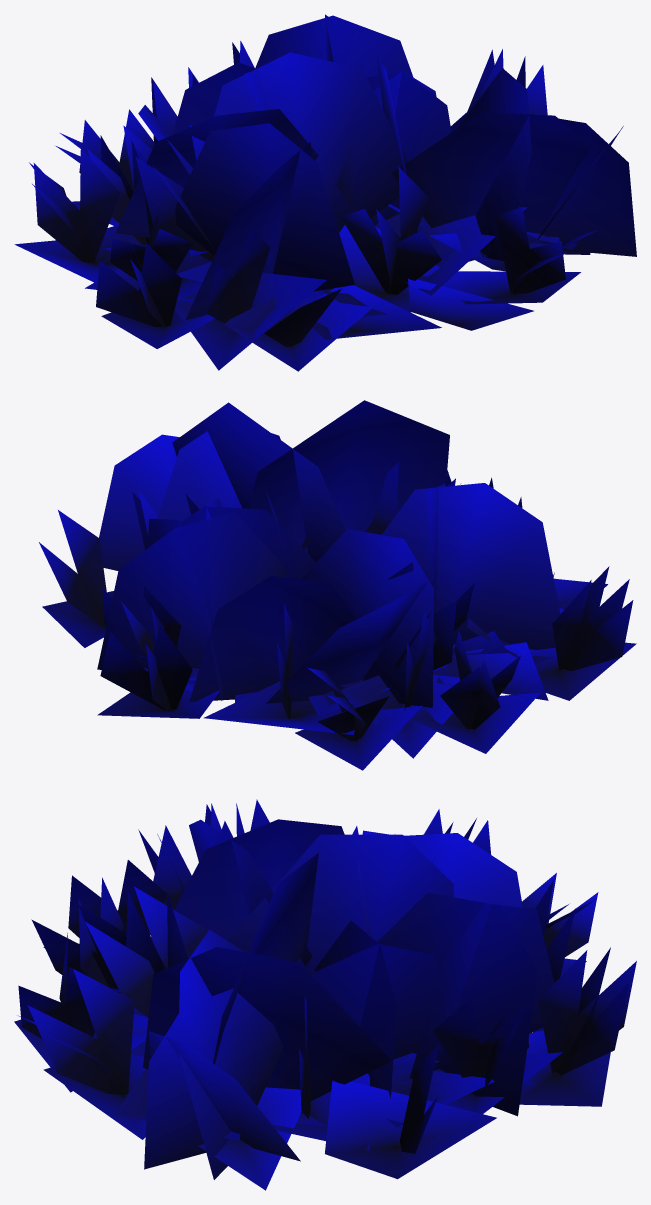
The model's file is SM_WildGrass_04.fbx.
3 renders of one model, top to bottom at view 1: azimuth 30°, elevation 25°; view 2: azimuth 150°, elevation 25°; view 3: azimuth 270°, elevation 25°, orthographic. The views are drawn at different scales.
Parts seen in each view (by area): view 1: SM_WildGrass_04_LOD0; view 2: SM_WildGrass_04_LOD0; view 3: SM_WildGrass_04_LOD0.
Boxes of the visible parts, bbox=[...] form: SM_WildGrass_04_LOD0: bbox=[14, 14, 636, 371]; SM_WildGrass_04_LOD0: bbox=[39, 400, 636, 770]; SM_WildGrass_04_LOD0: bbox=[14, 799, 636, 1190].
Bounding box in the file's own units: 147 × 133 × 62.09.
